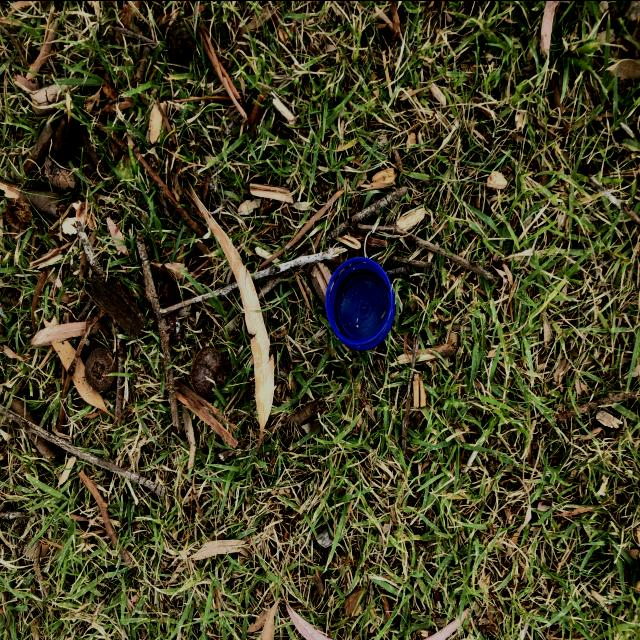Plastic bottle cap: (325, 255, 395, 350)
